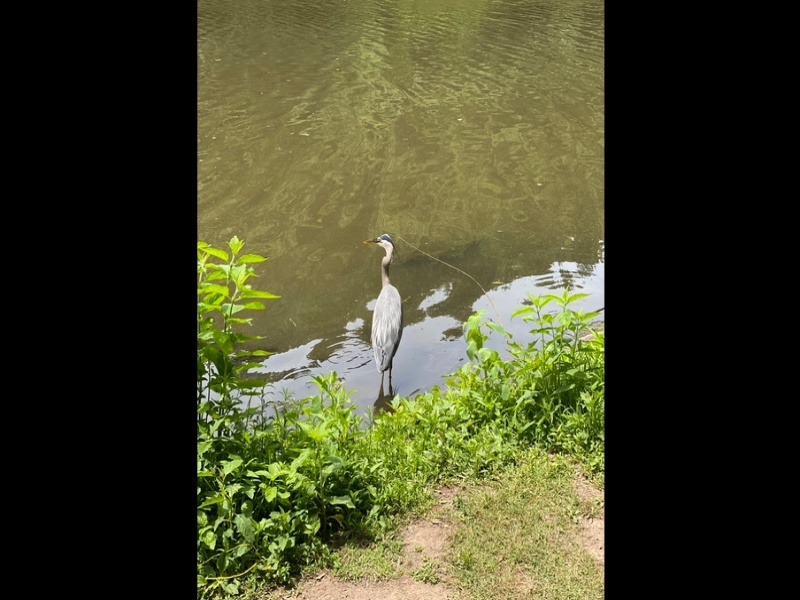heron: (365, 232, 406, 380)
